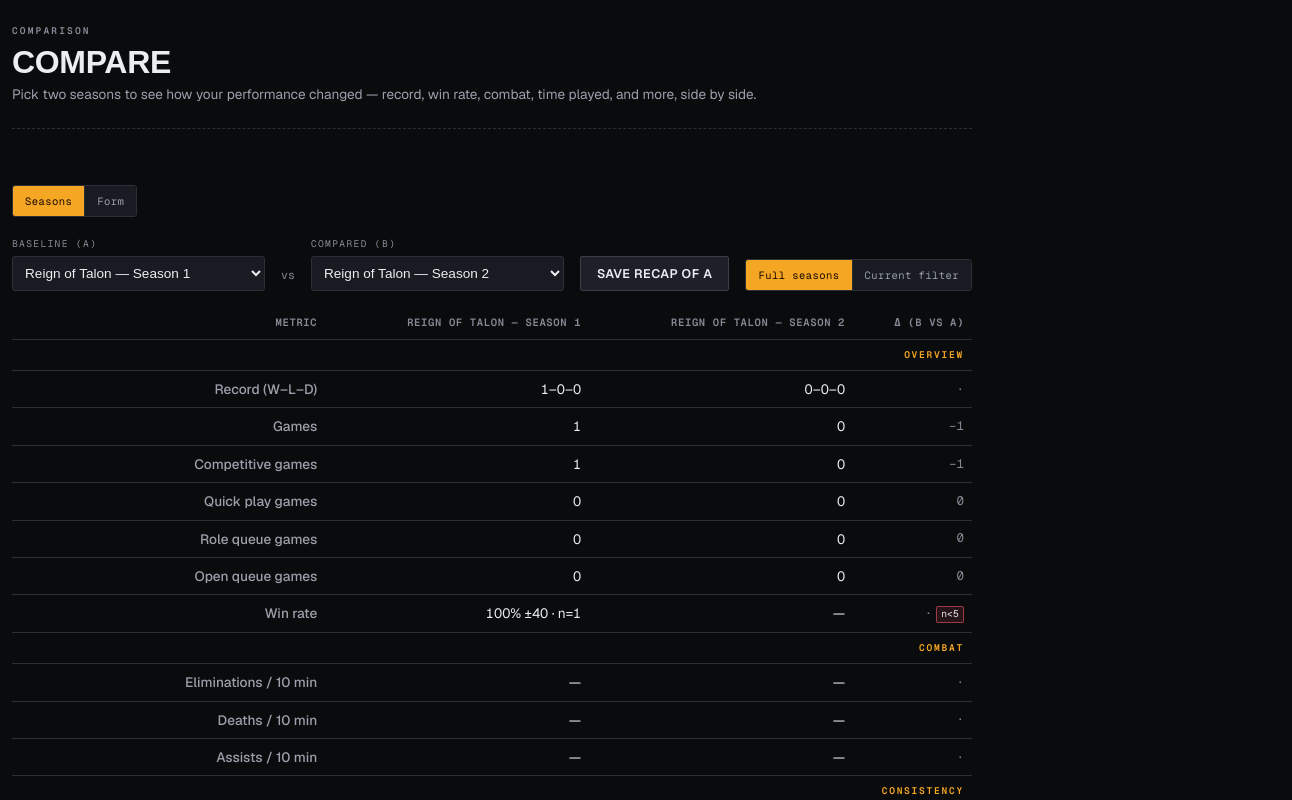
Scenario: SeasonCompareView › announces the comparison and its scope, and re-announces on a scope switch
Click the button "Current filter". click: (911, 275)
box: 852,260 -> 971,290
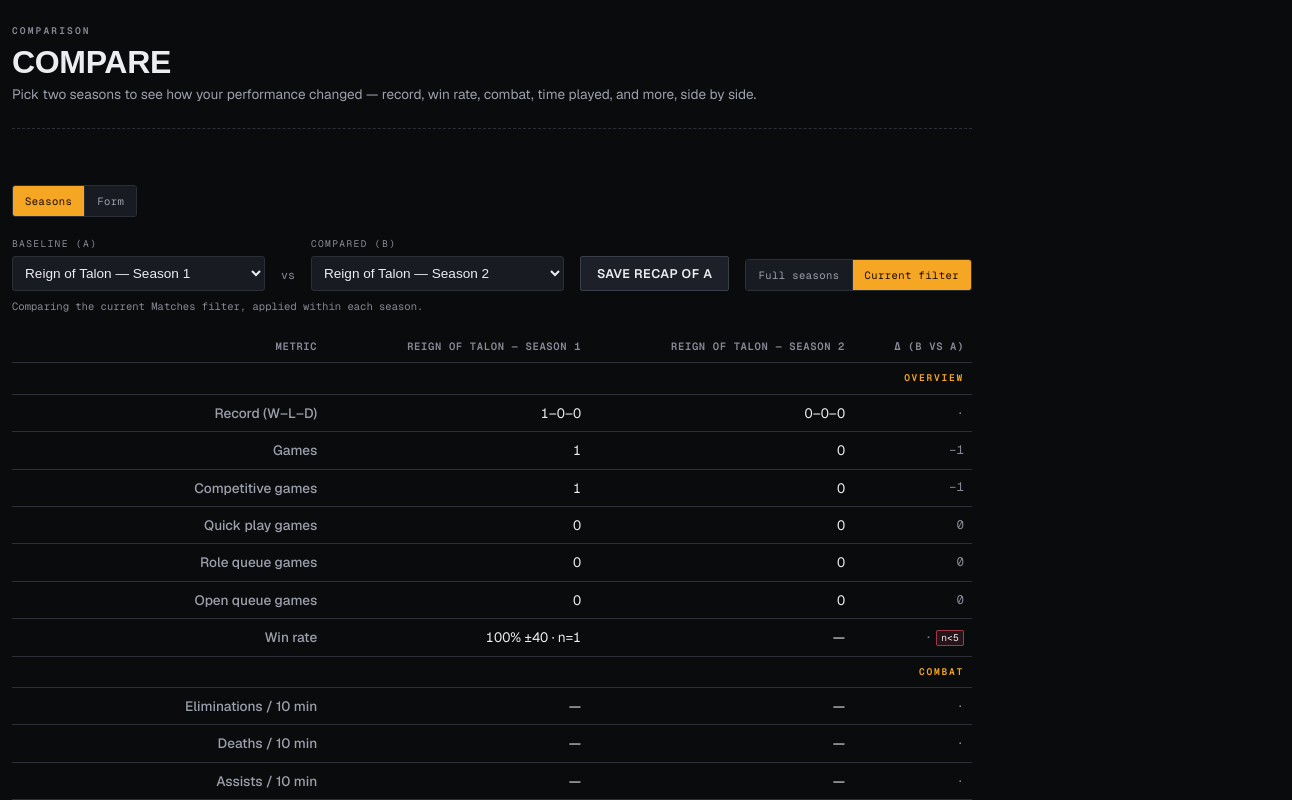
Result: the text "Comparing the current Matches filter, applied within each season." is shown at 12,299 -> 423,313
Click the button "Full seasons". click: (799, 275)
box: 746,260 -> 852,290
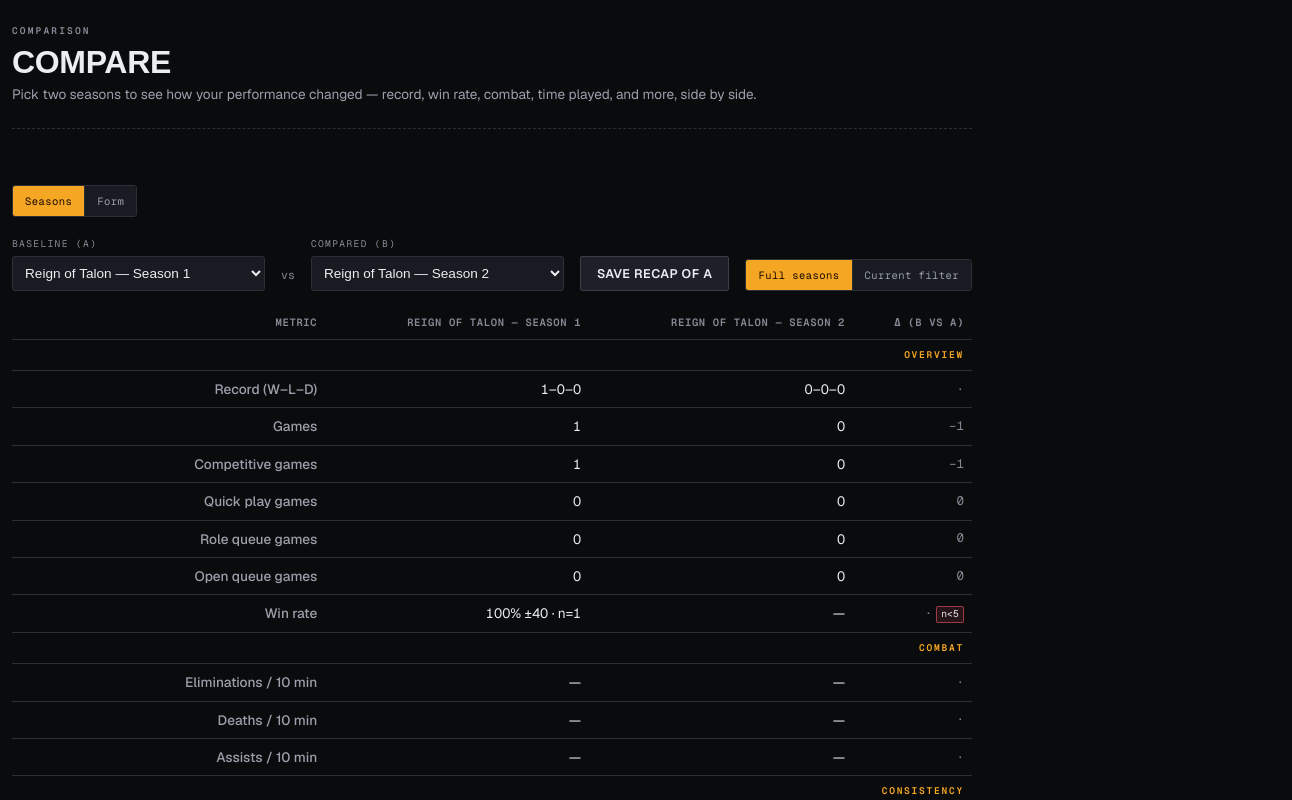
Result: the text "Comparing the current Matches filter, applied within each season." is gone
